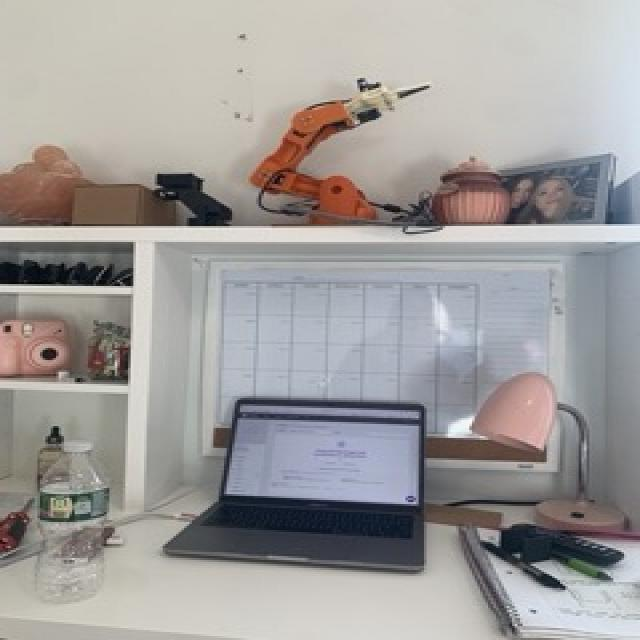water_bottle: (31, 434, 113, 606)
